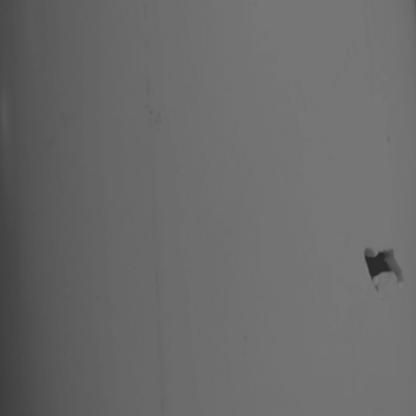kongdong: (356, 238, 412, 291)
